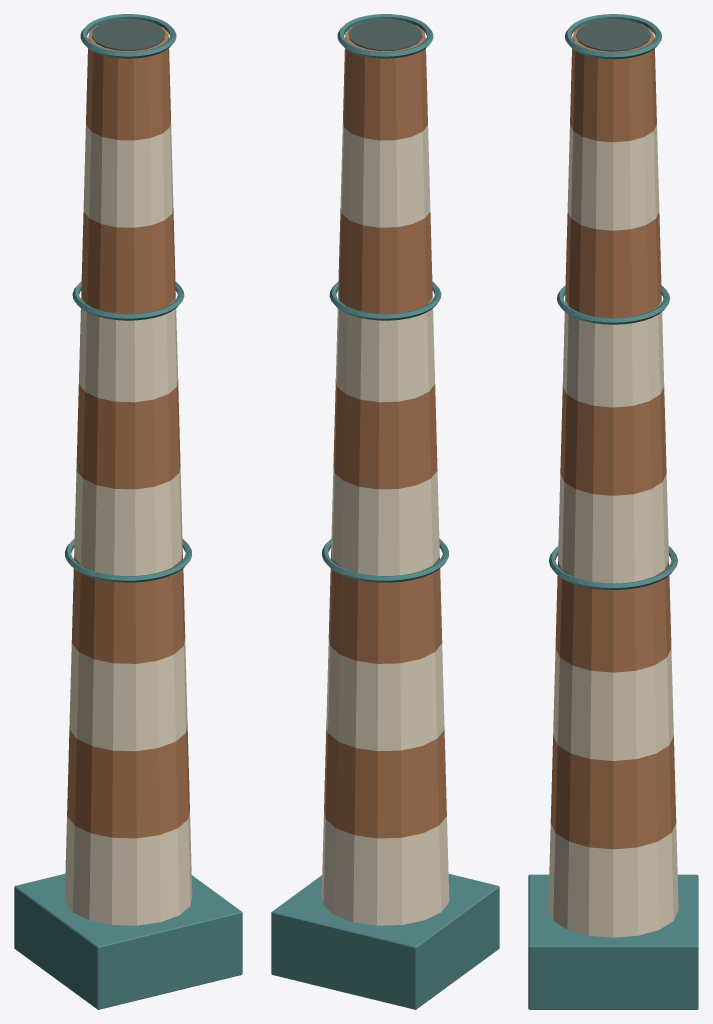
Rendered from hsc3_power_striped_chimney.glb.
3 renders of one model, left to right at view 1: azimuth 30°, elevation 25°; view 2: azimuth 150°, elevation 25°; view 3: azimuth 270°, elevation 25°, orthographic.
Parts seen in each view (by area): view 1: hsc3_power_striped_chimney__hsc3-pale-trim, hsc3_power_striped_chimney__hsc3-roasted-copper, hsc3_power_striped_chimney__hsc3-deep-teal, hsc3_power_striped_chimney__hsc3-charcoal-metal; view 2: hsc3_power_striped_chimney__hsc3-pale-trim, hsc3_power_striped_chimney__hsc3-roasted-copper, hsc3_power_striped_chimney__hsc3-deep-teal, hsc3_power_striped_chimney__hsc3-charcoal-metal; view 3: hsc3_power_striped_chimney__hsc3-pale-trim, hsc3_power_striped_chimney__hsc3-roasted-copper, hsc3_power_striped_chimney__hsc3-deep-teal, hsc3_power_striped_chimney__hsc3-charcoal-metal.
Boxes of the visible parts, x1=… form: hsc3_power_striped_chimney__hsc3-pale-trim: x1=64, y1=122, x2=192, y2=925; hsc3_power_striped_chimney__hsc3-roasted-copper: x1=67, y1=22, x2=189, y2=838; hsc3_power_striped_chimney__hsc3-deep-teal: x1=14, y1=14, x2=242, y2=1009; hsc3_power_striped_chimney__hsc3-charcoal-metal: x1=91, y1=19, x2=165, y2=51; hsc3_power_striped_chimney__hsc3-pale-trim: x1=321, y1=122, x2=449, y2=925; hsc3_power_striped_chimney__hsc3-roasted-copper: x1=324, y1=22, x2=446, y2=838; hsc3_power_striped_chimney__hsc3-deep-teal: x1=271, y1=14, x2=499, y2=1009; hsc3_power_striped_chimney__hsc3-charcoal-metal: x1=348, y1=19, x2=422, y2=51; hsc3_power_striped_chimney__hsc3-pale-trim: x1=548, y1=124, x2=678, y2=937; hsc3_power_striped_chimney__hsc3-roasted-copper: x1=550, y1=24, x2=676, y2=849; hsc3_power_striped_chimney__hsc3-deep-teal: x1=528, y1=14, x2=698, y2=1009; hsc3_power_striped_chimney__hsc3-charcoal-metal: x1=576, y1=19, x2=650, y2=51.
Size of the model in its own units: 12 by 73.24 by 12.
